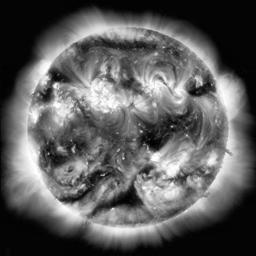solar flares: (88, 86, 133, 111), (145, 180, 185, 200), (165, 78, 189, 105), (49, 101, 75, 123), (162, 159, 181, 179), (140, 76, 159, 93), (151, 149, 164, 167), (180, 151, 194, 163), (53, 83, 64, 95)
sunspots: (85, 43, 154, 56), (111, 186, 136, 210), (138, 123, 163, 146), (42, 144, 72, 163), (184, 76, 212, 94), (84, 172, 108, 187), (48, 71, 69, 86), (169, 119, 190, 134), (40, 92, 60, 106), (66, 140, 88, 152)
